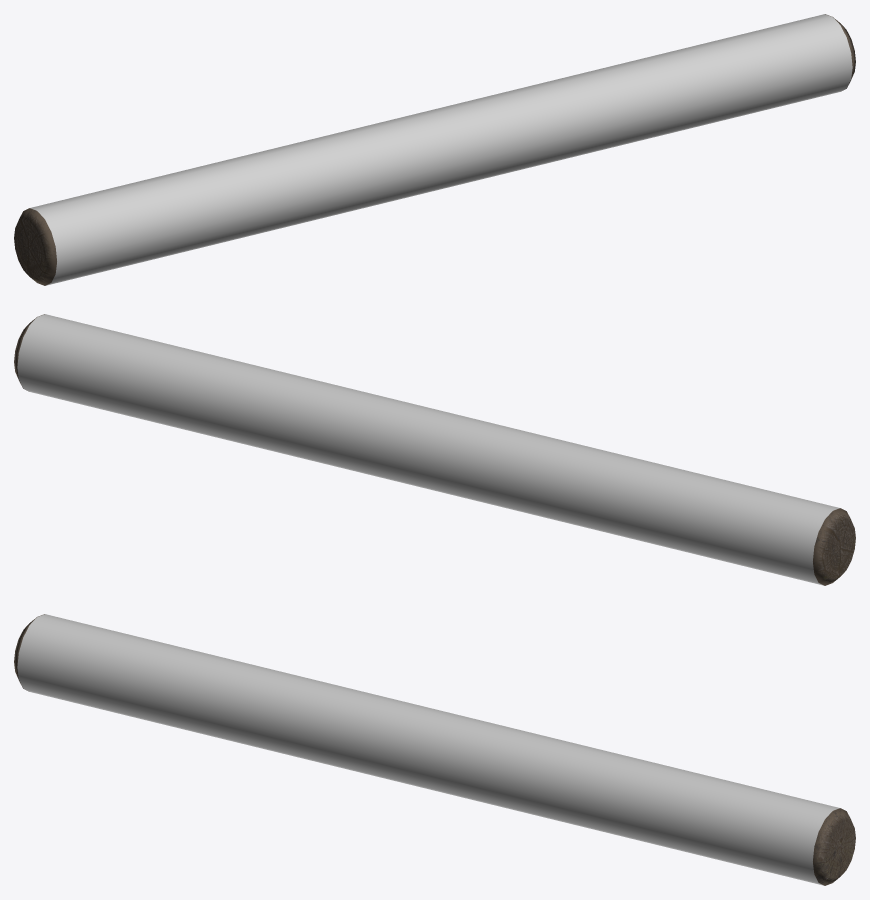
File: SM_Beam_17x17X200_01.fbx
The picture shows the model from 3 angles, top to bottom: view 1: azimuth 30°, elevation 25°; view 2: azimuth 150°, elevation 25°; view 3: azimuth 330°, elevation 25°; orthographic projection.
Visible parts, largest first — view 1: SM_Beam_17x17X200_01_LOD0; view 2: SM_Beam_17x17X200_01_LOD0; view 3: SM_Beam_17x17X200_01_LOD0.
Boxes of the visible parts, box(x1,y1,x2,y2) form: SM_Beam_17x17X200_01_LOD0: box(14, 14, 855, 285); SM_Beam_17x17X200_01_LOD0: box(14, 314, 855, 585); SM_Beam_17x17X200_01_LOD0: box(14, 614, 855, 885).
Size of the model in its own units: 200 by 17.02 by 17.02.
